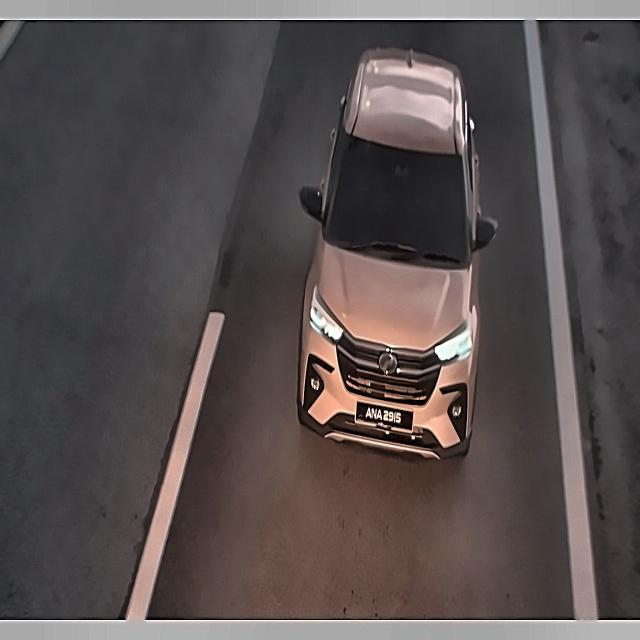car: (354, 399, 412, 434)
